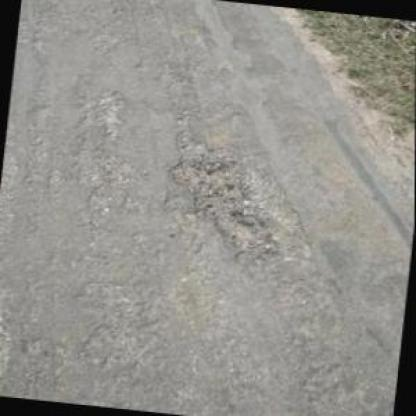pothole: (157, 154, 284, 263), (92, 86, 128, 136)
